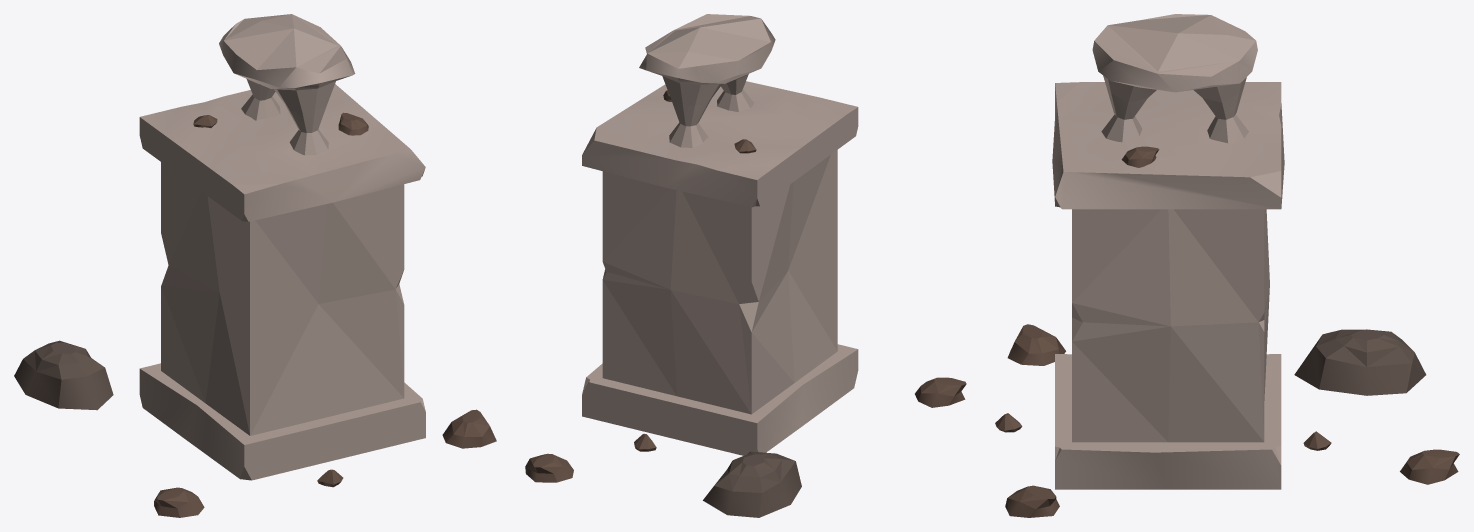
The model's file is Statue brisée.FBX.
3 renders of one model, left to right at view 1: azimuth 30°, elevation 25°; view 2: azimuth 150°, elevation 25°; view 3: azimuth 270°, elevation 25°, orthographic. The views are drawn at different scales.
Visible parts, largest first — view 1: Box001; view 2: Box001; view 3: Box001.
Part boxes in pixels (<box>): Box001: <box>14,14,496,517</box>; Box001: <box>525,14,966,517</box>; Box001: <box>995,14,1459,517</box>.
Bounding box in the file's own units: 68.91 × 75.97 × 76.76.
